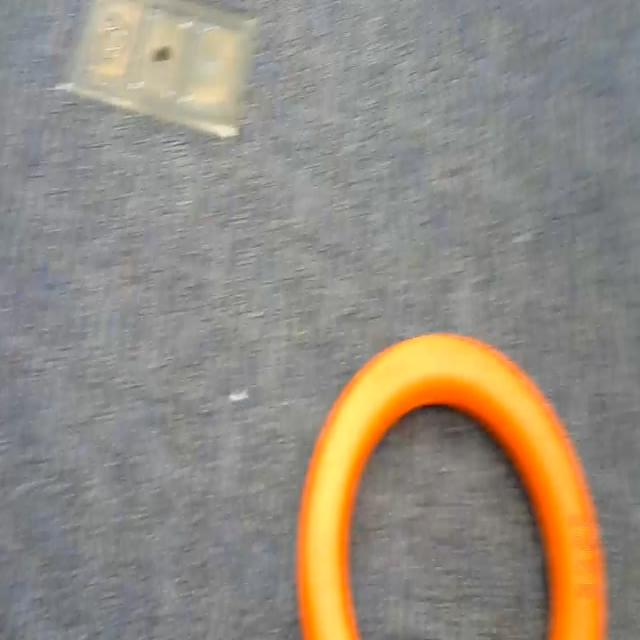note: (282, 322, 640, 640)
